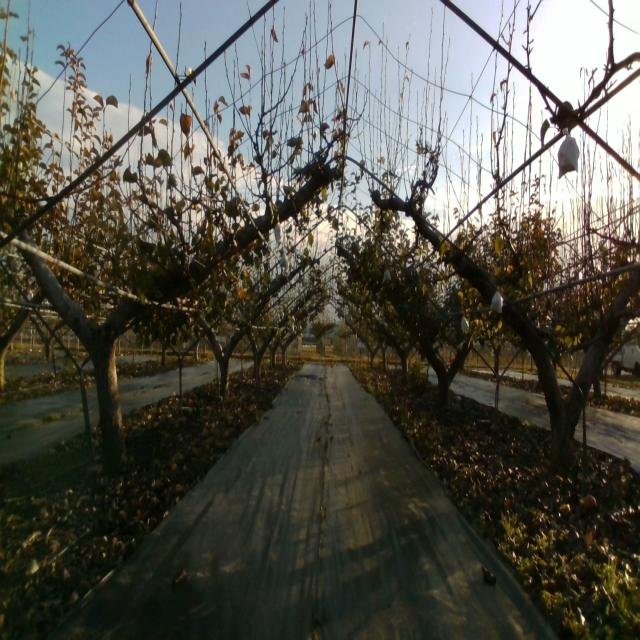pearbags: (557, 128, 580, 179), (491, 286, 504, 316)
